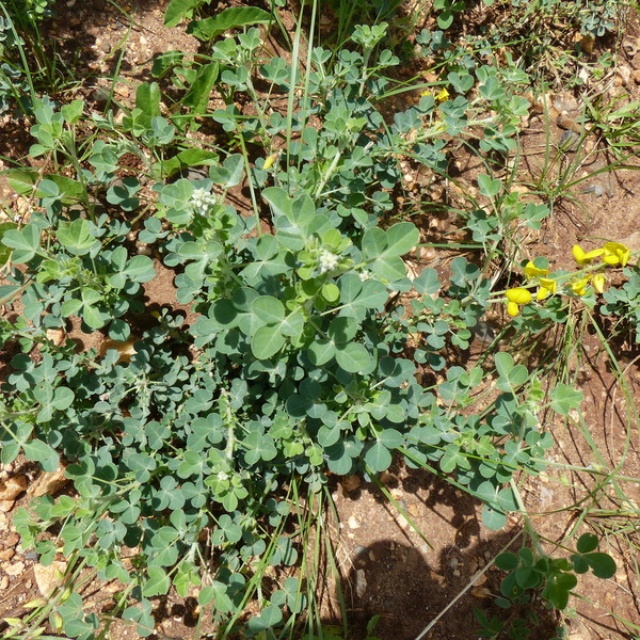obstacle: (103, 89, 516, 527)
